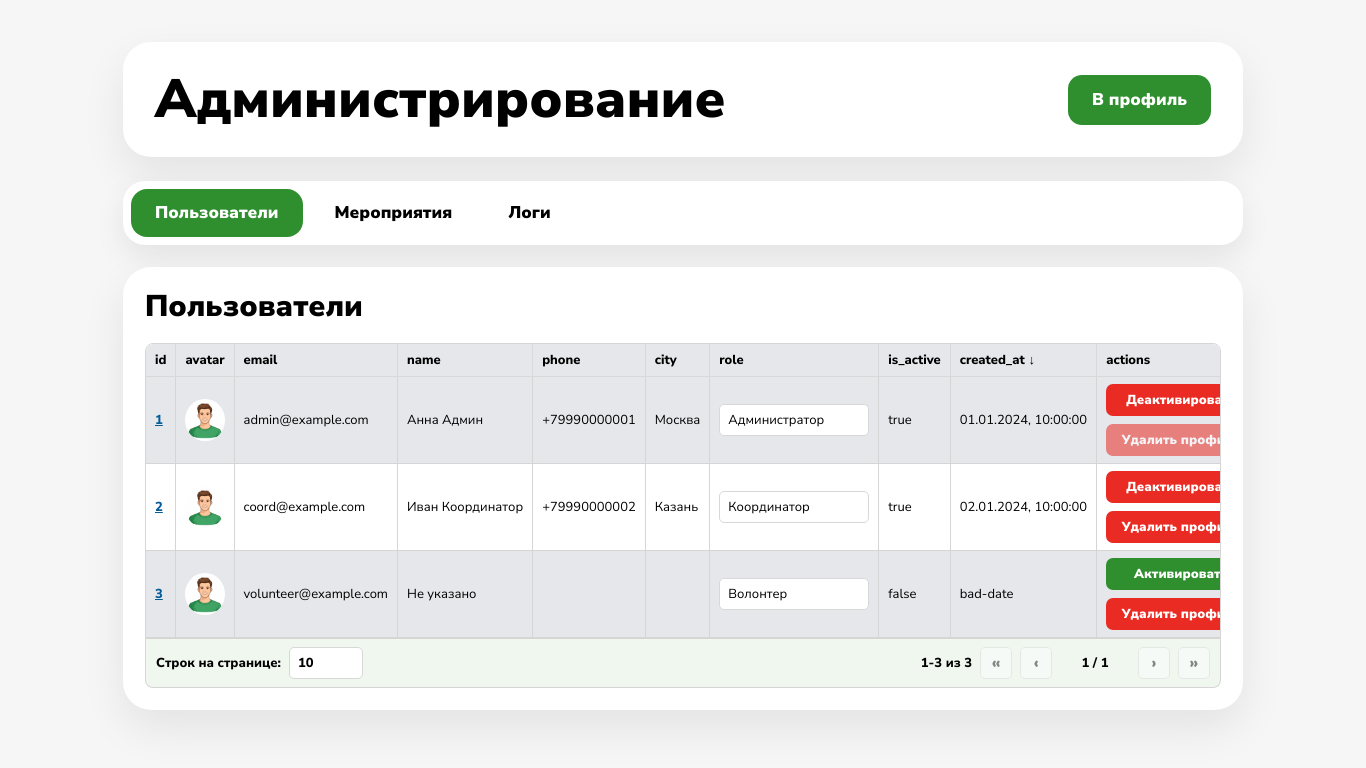
Test: AdminPage › shows fallback delete profile error
Expected: the text "volunteer@example.com" is shown, [234,551,398,638]
Click the button "Удалить профиль" in the row of "volunteer@example.com": {"x": 1181, "y": 614} [1106,598,1256,630]
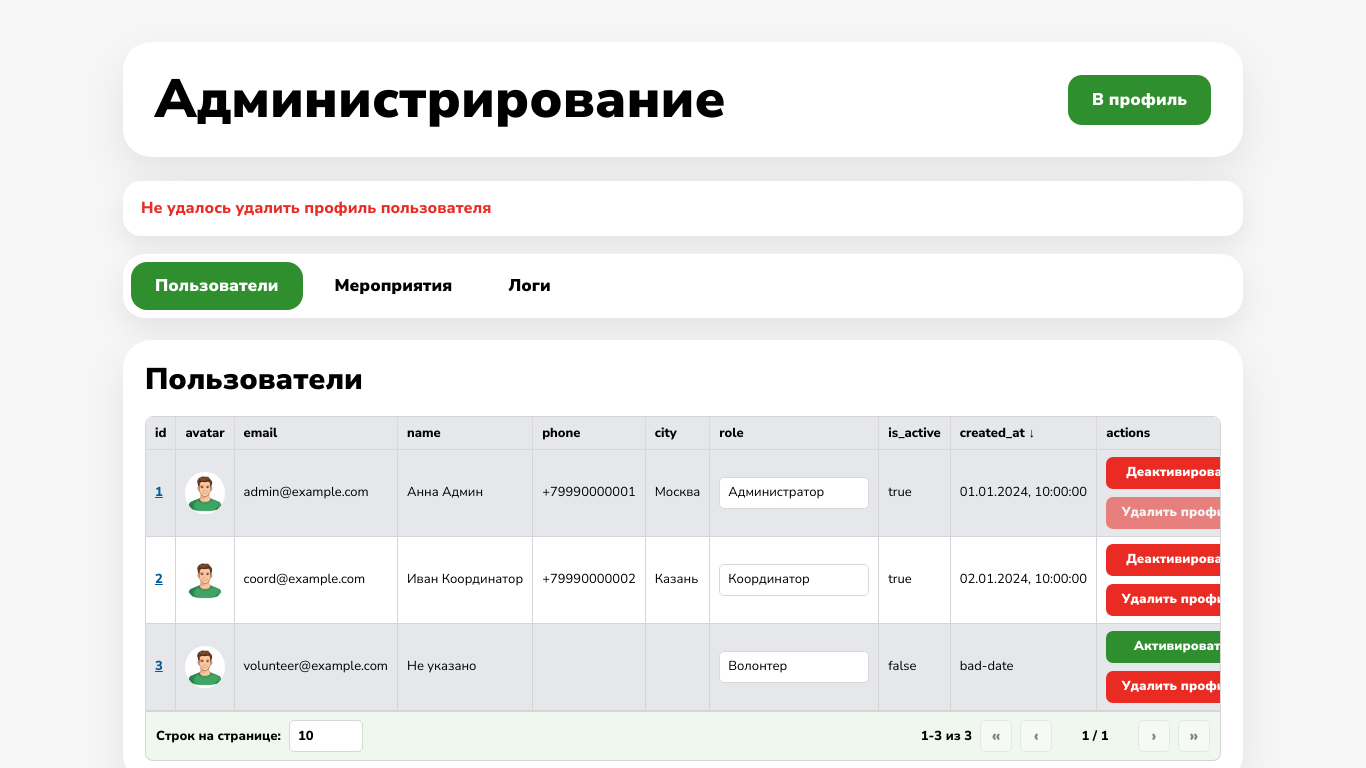
Now the text "Не удалось удалить профиль пользователя" is shown, box [123,181,1243,236]
